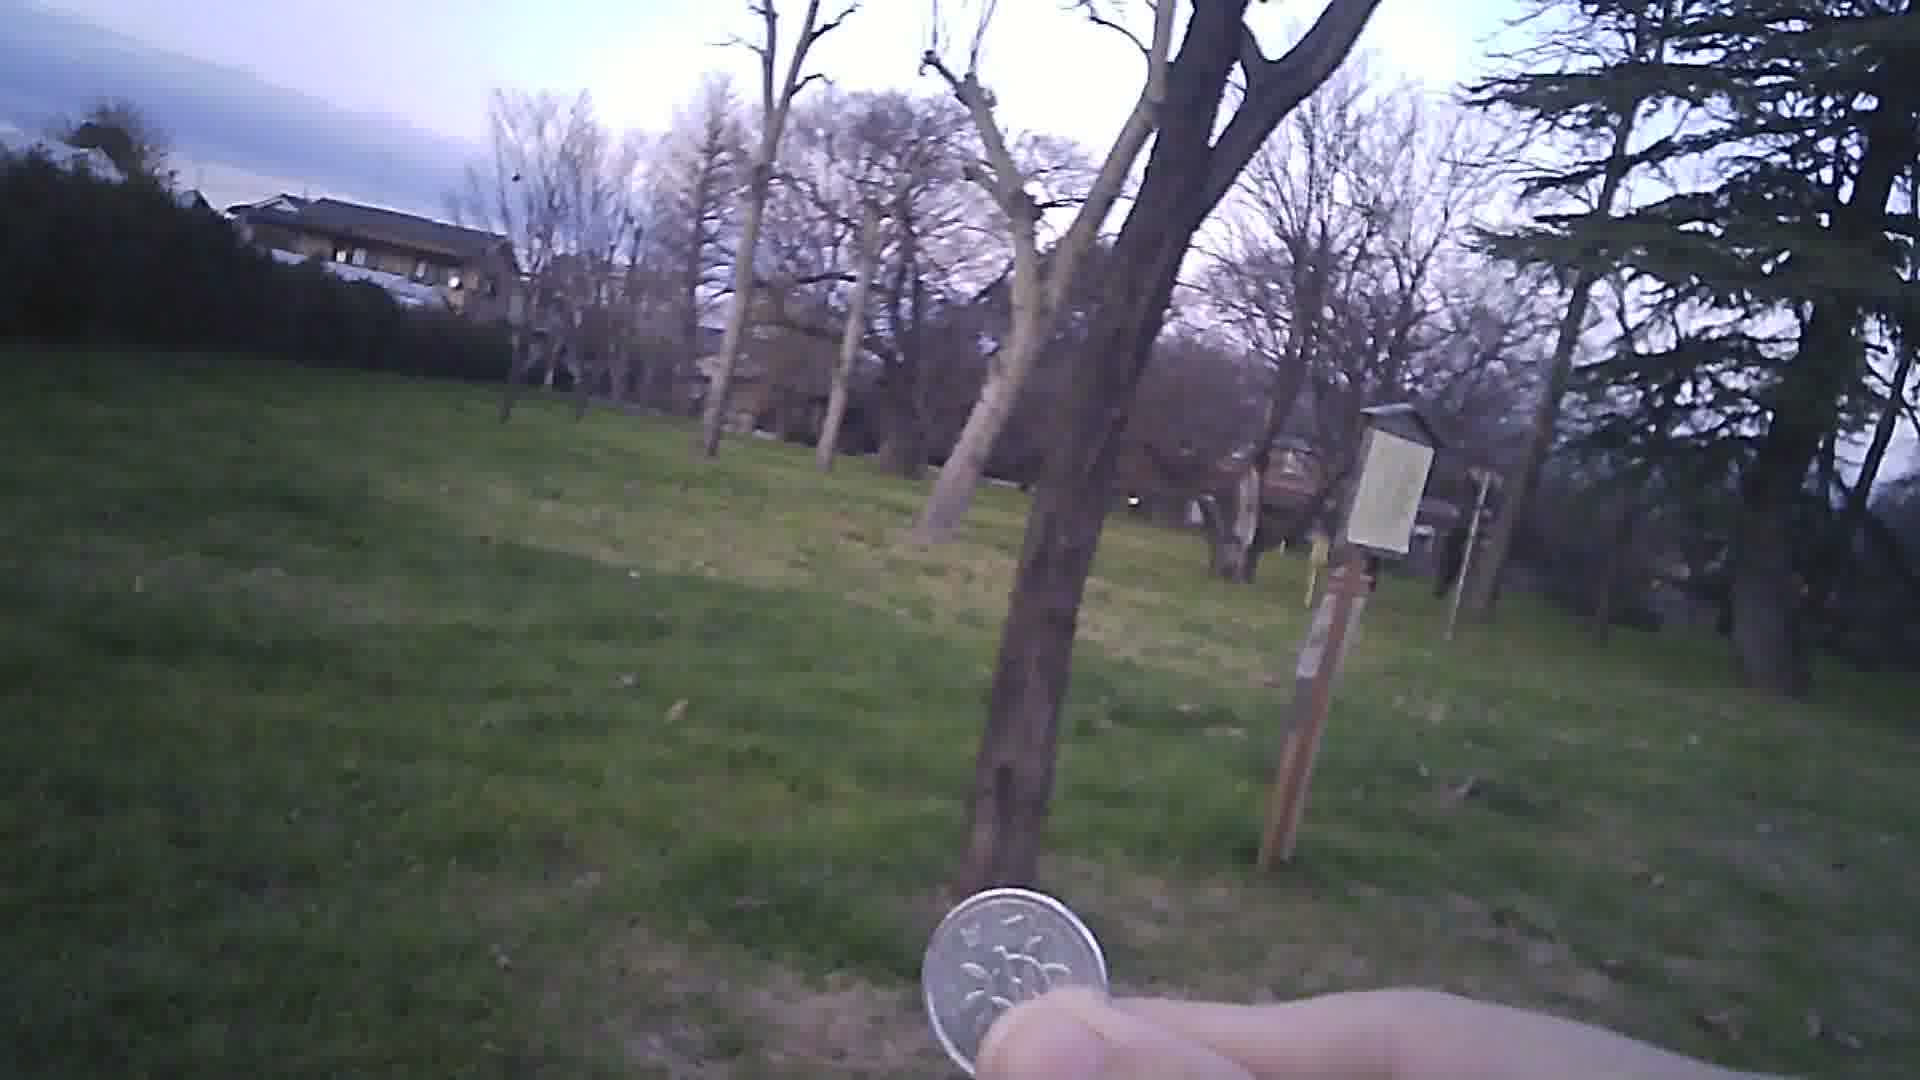1 Yen: (916, 884, 1124, 1075)
